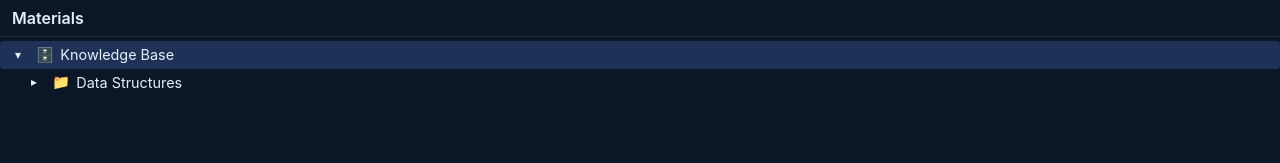
Test: MaterialsApp tree view › expanding a folder reveals its child folders and files
The image size is (1280, 163).
Expected: the list item with test id "folder-ds" is shown, [0,69,1279,96]
Step 1. Click the button with test id "folder-toggle-ds" → (34, 82), box [24,72,44,92]
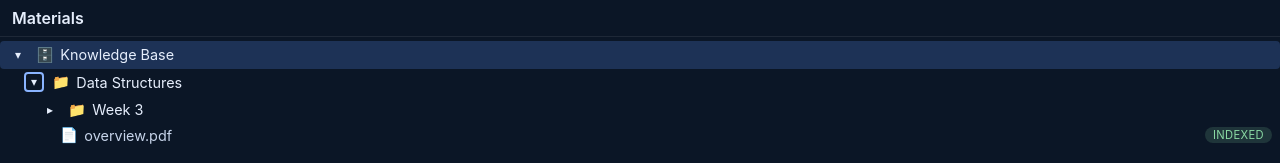
Expected: the list item with test id "folder-w3" is shown, [0,96,1279,124]
Expected: the list item with test id "file-f-overview" is shown, [0,124,1279,146]
